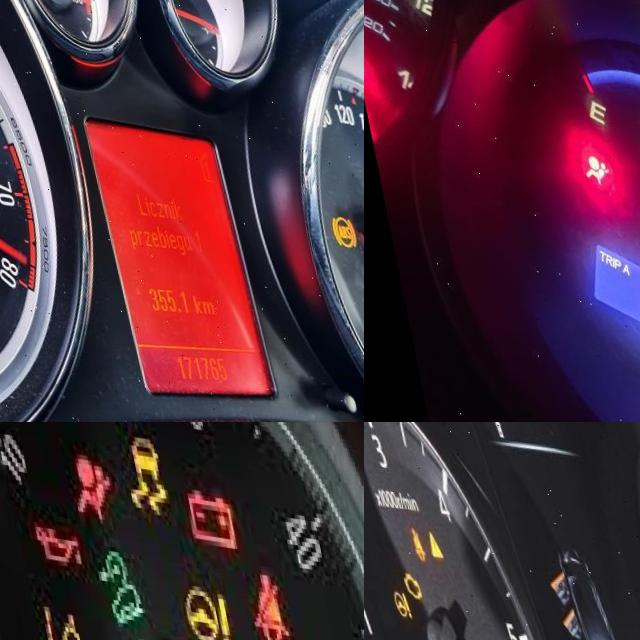Electronic Power Steering: (169, 575, 222, 640)
Electronic Power Steering Warning: (382, 585, 402, 614)
Seat Belt: (236, 559, 281, 638), (400, 520, 422, 557)
